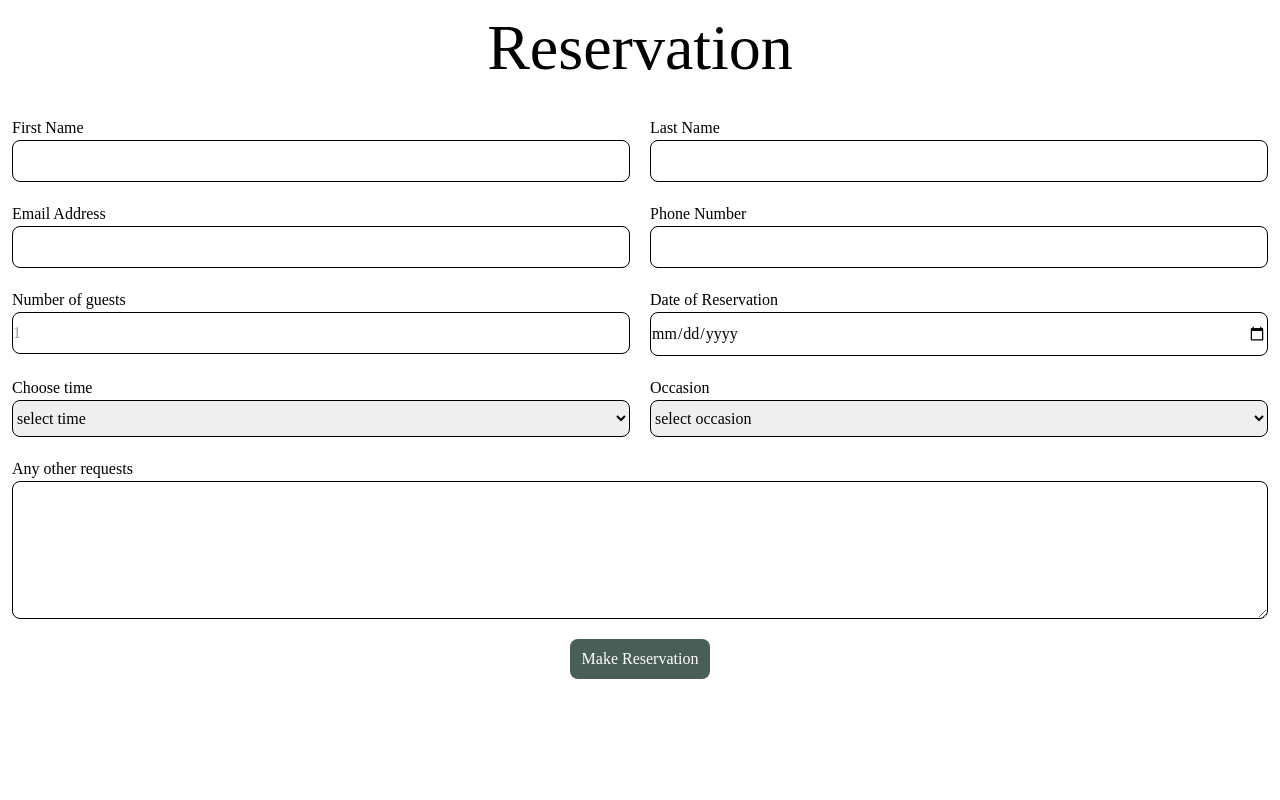
Test: BookingForm › shows validation errors on empty submit
Click the button "Make Reservation" at {"x": 640, "y": 659}, box x1=570 y1=639 x2=710 y2=679
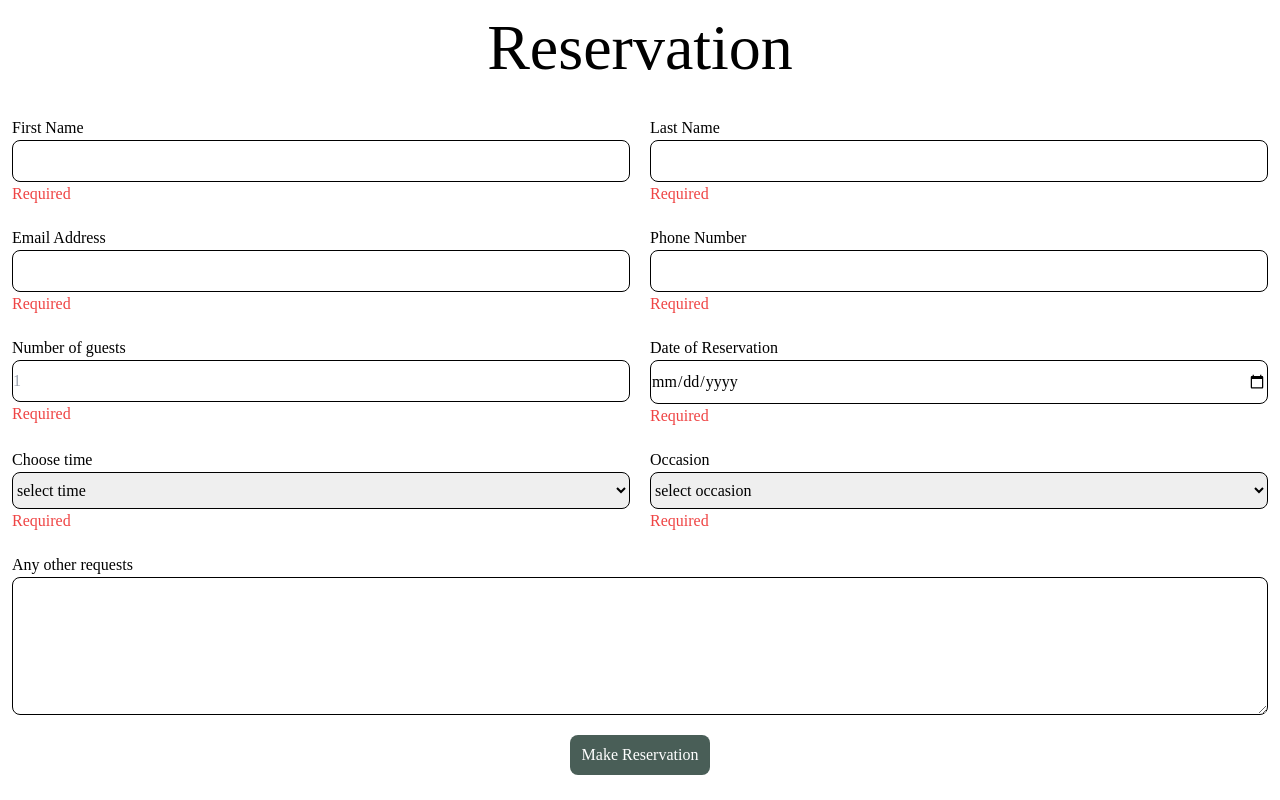
Expected: the text "Required" is shown 8 times
